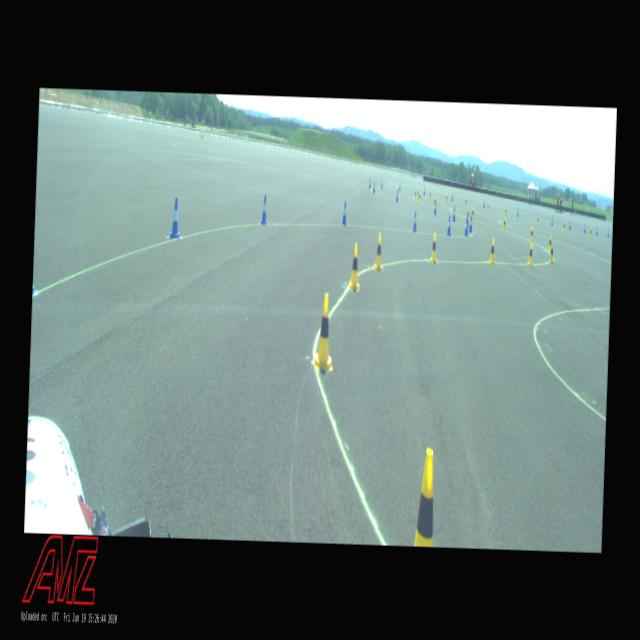blue_cone: (169, 196, 181, 238), (260, 194, 268, 224), (341, 199, 348, 225), (411, 209, 417, 232), (446, 216, 452, 236), (464, 217, 468, 236), (468, 214, 472, 232), (452, 206, 456, 221), (466, 212, 469, 228), (395, 188, 398, 202), (372, 180, 375, 193), (368, 177, 371, 188), (434, 201, 436, 215), (584, 223, 586, 233), (550, 216, 552, 226), (568, 220, 570, 230), (451, 192, 453, 202), (606, 228, 608, 238), (380, 178, 382, 188), (596, 226, 598, 235), (516, 208, 518, 217), (423, 187, 425, 196), (482, 200, 484, 208), (398, 182, 400, 190)
yellow_cone: (414, 447, 436, 547), (313, 291, 335, 372), (347, 242, 361, 292), (373, 232, 384, 270), (429, 232, 439, 264), (527, 242, 534, 266), (489, 237, 495, 264), (548, 242, 554, 264), (547, 234, 552, 252), (529, 225, 533, 242), (502, 216, 506, 232), (562, 220, 566, 232), (432, 195, 436, 207), (418, 190, 421, 202), (428, 189, 431, 199), (486, 202, 489, 211), (472, 207, 474, 220), (414, 188, 416, 200), (589, 227, 591, 237), (536, 214, 538, 224), (416, 188, 418, 198), (504, 207, 506, 216), (464, 197, 466, 206), (446, 194, 448, 202)
